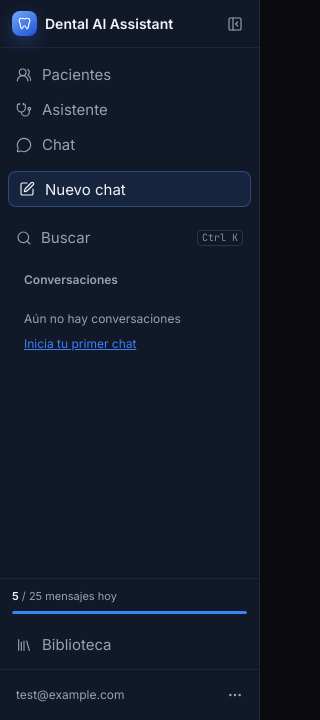
Sidebar handleNewChat › guard logic for empty conversations › should handle createConversation error and show error message
Click the button "Nuevo chat" at (130, 189), box [8,171,251,207]
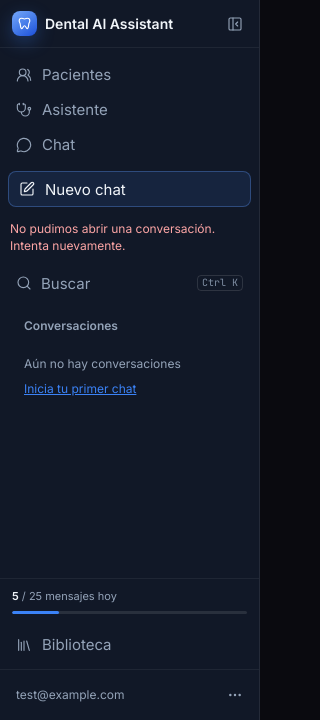
Now the text "No pudimos abrir una conversación. Intenta nuevamente." is shown, box [10,221,249,255]
